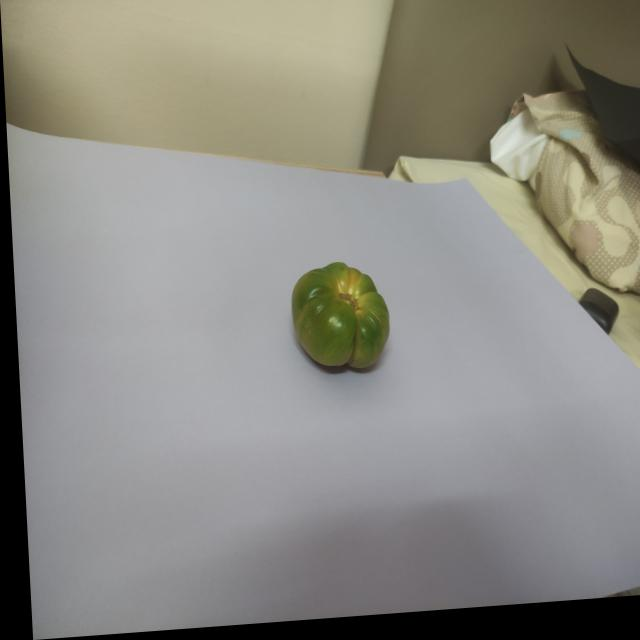yesil: (276, 241, 395, 379)
